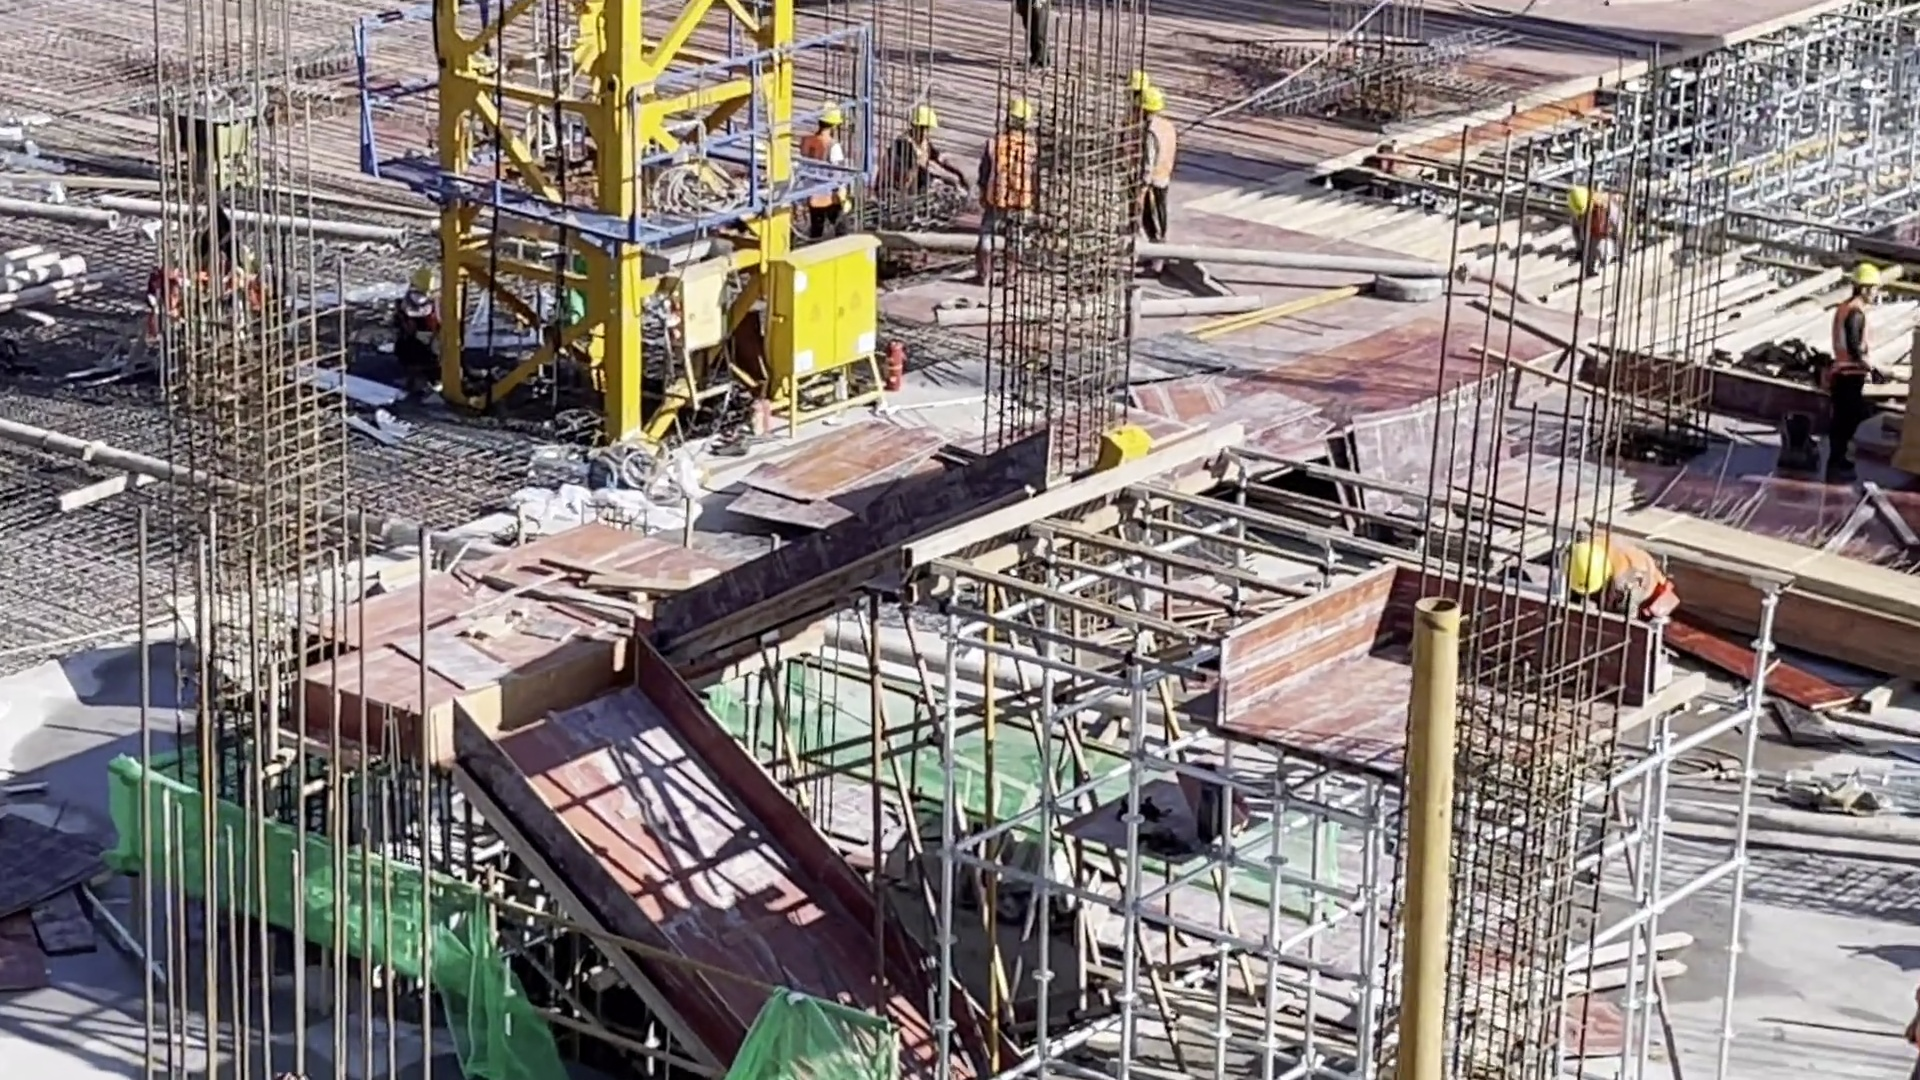ebox: (759, 209, 878, 367), (674, 249, 769, 364), (1134, 447, 1188, 504)
helmet: (1565, 539, 1614, 578), (409, 258, 445, 294), (1010, 99, 1045, 134), (1851, 255, 1893, 281), (911, 104, 938, 131), (1565, 186, 1596, 209), (819, 98, 841, 127), (1143, 89, 1165, 116), (1125, 65, 1139, 94)
person: (1553, 518, 1698, 645), (1827, 259, 1872, 475), (1135, 85, 1186, 278), (985, 96, 1036, 283), (803, 98, 858, 248), (1109, 62, 1152, 225), (885, 102, 948, 214), (386, 259, 442, 378), (1570, 180, 1642, 268)
vest: (1599, 537, 1689, 624), (398, 292, 454, 356), (986, 131, 1033, 206), (1831, 294, 1866, 389), (875, 134, 932, 184), (813, 133, 841, 208), (1586, 204, 1649, 237), (1156, 113, 1181, 189), (1117, 115, 1149, 171)
wood: (1653, 496, 1920, 678)
